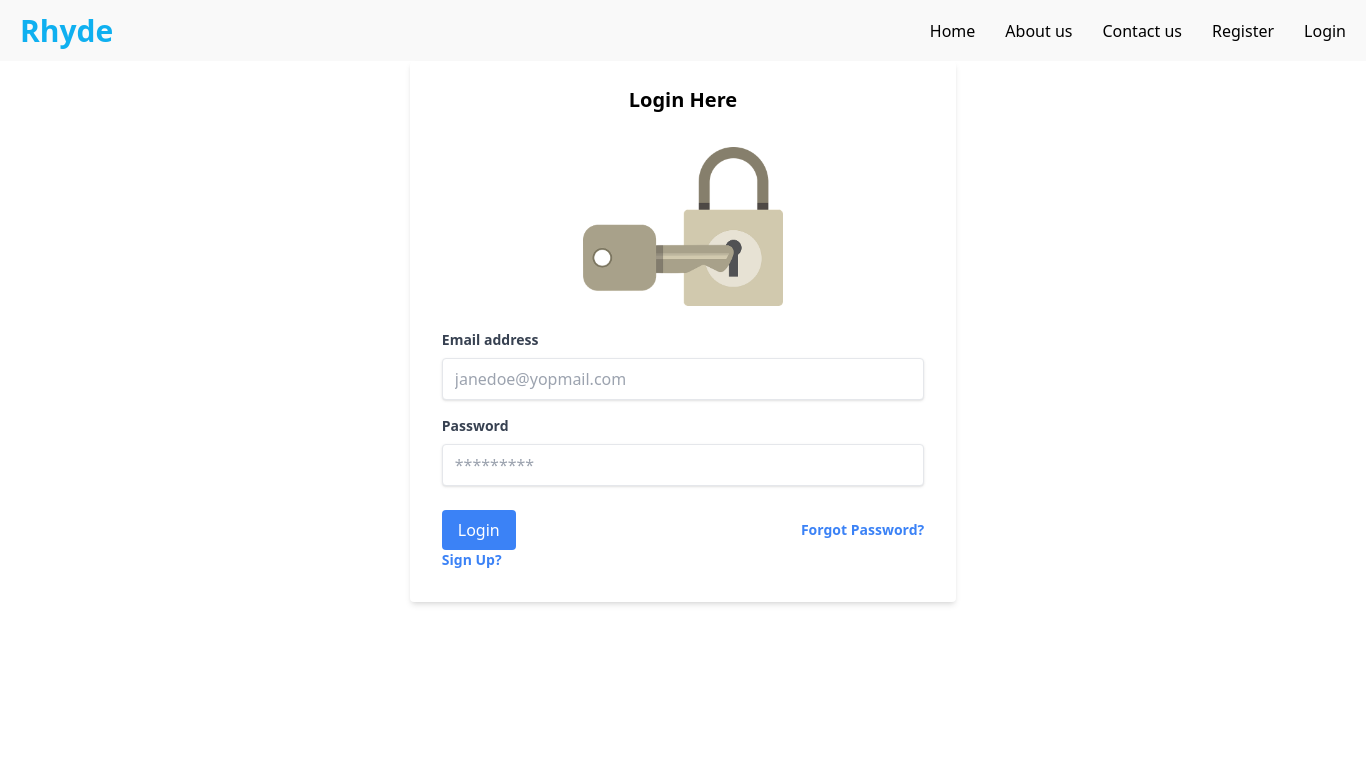
Requests without hitting the backend › should handle login post request
The image size is (1366, 768).
Click the button with class "loginbtn" at (479, 530), box x1=442 y1=510 x2=516 y2=550
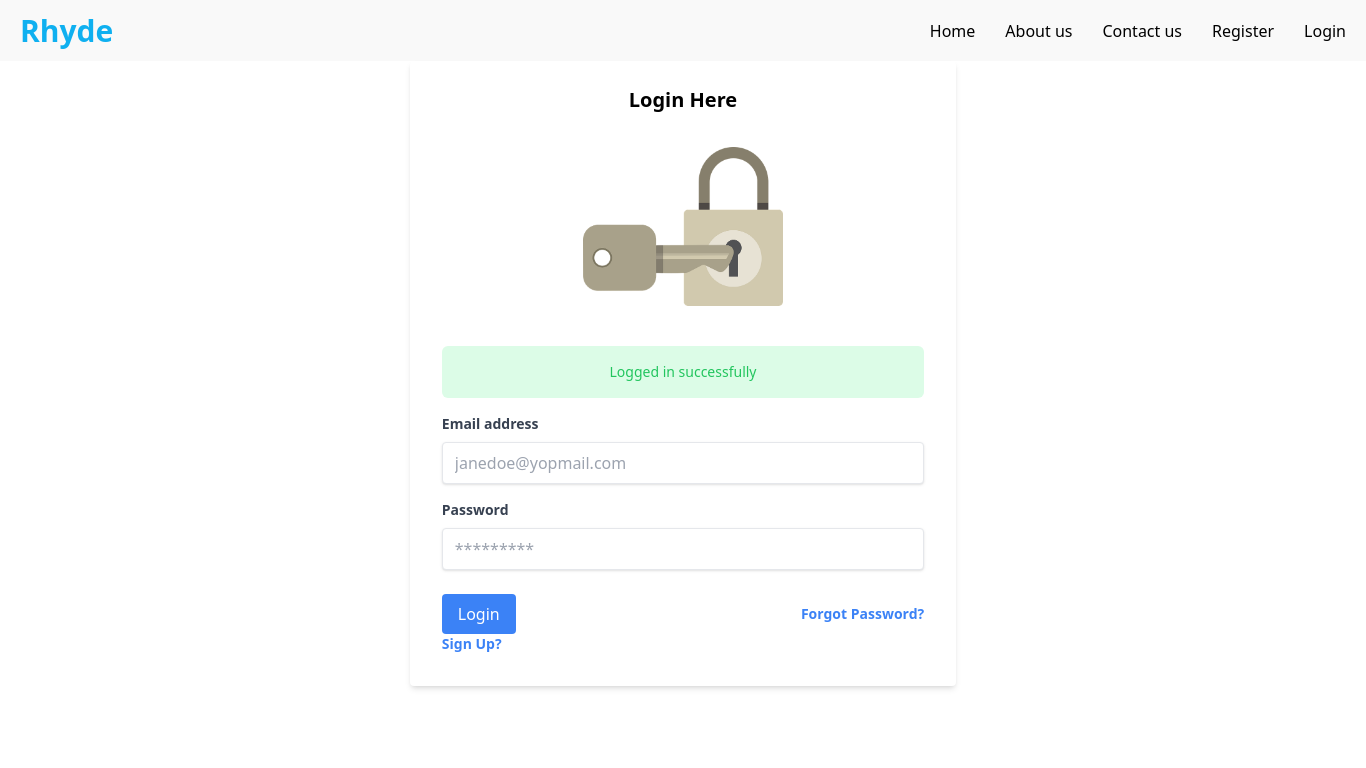
Check: the text with class "success-msg" reads "Logged in successfully", box x1=609 y1=362 x2=756 y2=381
